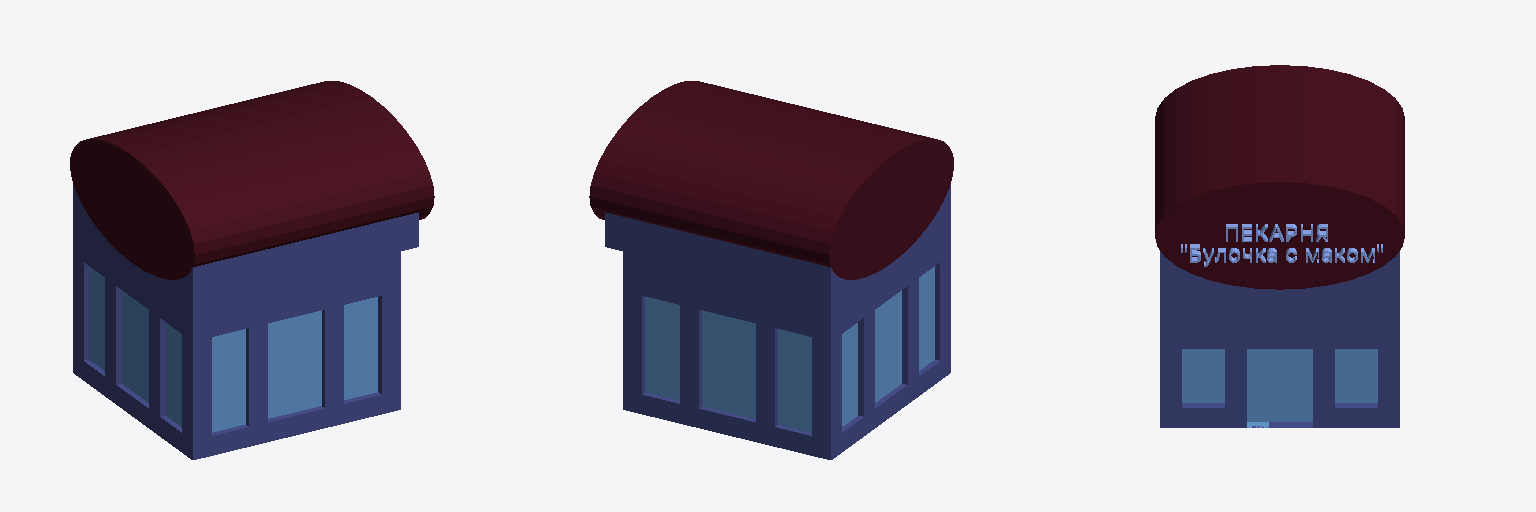
The model's file is Bakery_building.obj.
3 renders of one model, left to right at view 1: azimuth 30°, elevation 25°; view 2: azimuth 150°, elevation 25°; view 3: azimuth 270°, elevation 25°, orthographic.
Parts seen in each view (by area): view 1: Cube, Cylinder; view 2: Cube, Cylinder; view 3: Cylinder, Cube, ПЕКАРНЯ_"Булочка_с_маком".
Boxes of the visible parts, box(x1,y1,x2,y2) form: Cube: box(73, 184, 418, 459); Cylinder: box(70, 81, 434, 279); Cube: box(605, 184, 950, 459); Cylinder: box(589, 81, 953, 279); Cylinder: box(1155, 65, 1404, 289); Cube: box(1160, 251, 1399, 427); ПЕКАРНЯ_"Булочка_с_маком": box(1181, 224, 1382, 266).
Size of the model in its own units: 2.38 by 2.4 by 2.08.